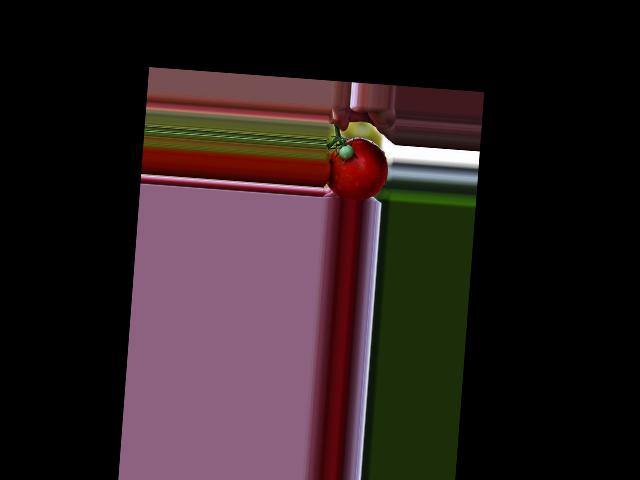tomato: (326, 135, 389, 203)
